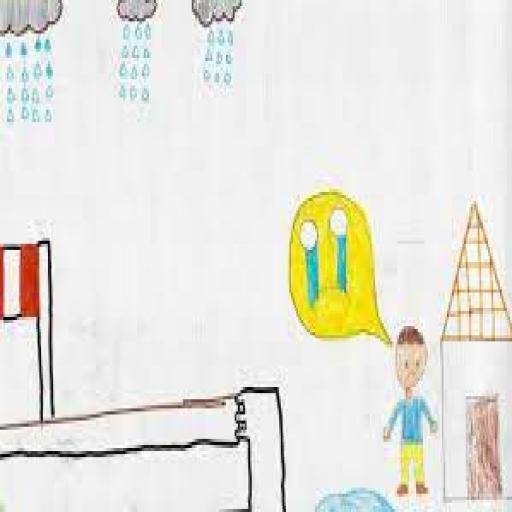person: (376, 321, 438, 494)
